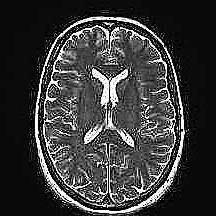Normal_Brain: (1, 3, 216, 216)
